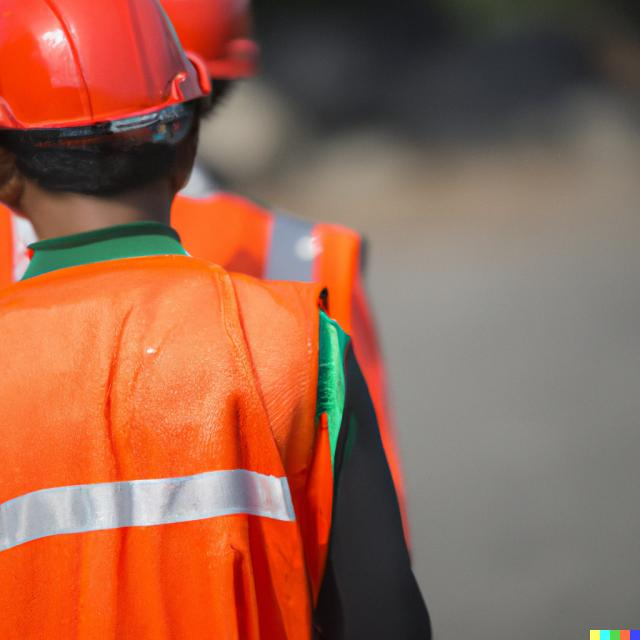Reflective-Jacket: (1, 221, 344, 640)
Safety-Helmet: (0, 2, 221, 137)
